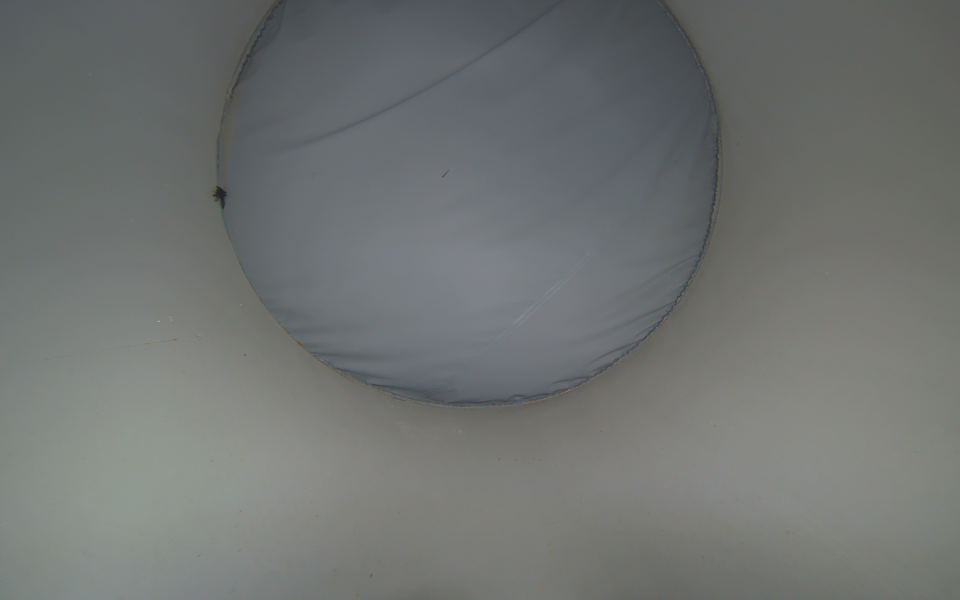circle2: (215, 0, 722, 411)
